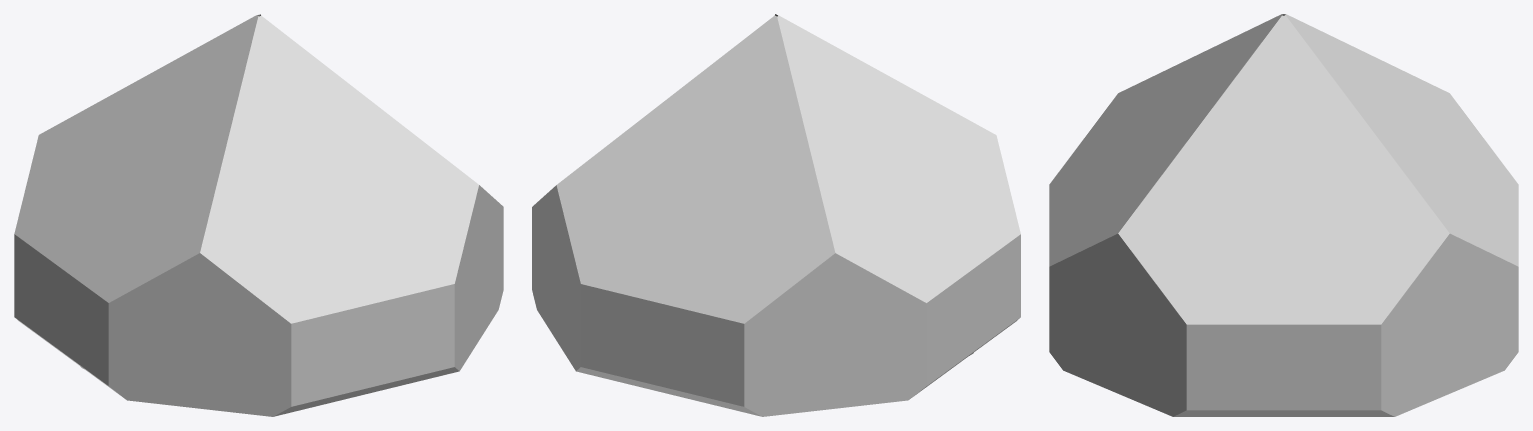
The model's file is SM_temple_dome_01.fbx.
3 views of the same model, side by side, from view 1: azimuth 30°, elevation 25°; view 2: azimuth 150°, elevation 25°; view 3: azimuth 270°, elevation 25° (orthographic). The views are drawn at different scales.
Visible parts, largest first — view 1: SM_temple_dome_01_ConvexHulls; view 2: SM_temple_dome_01_ConvexHulls; view 3: SM_temple_dome_01_ConvexHulls.
Part boxes in pixels (x1,y1,x2,y2): SM_temple_dome_01_ConvexHulls: (14, 14, 503, 416); SM_temple_dome_01_ConvexHulls: (532, 15, 1020, 416); SM_temple_dome_01_ConvexHulls: (1049, 14, 1518, 416).
Size of the model in its own units: 1866 by 1866 by 1362.
